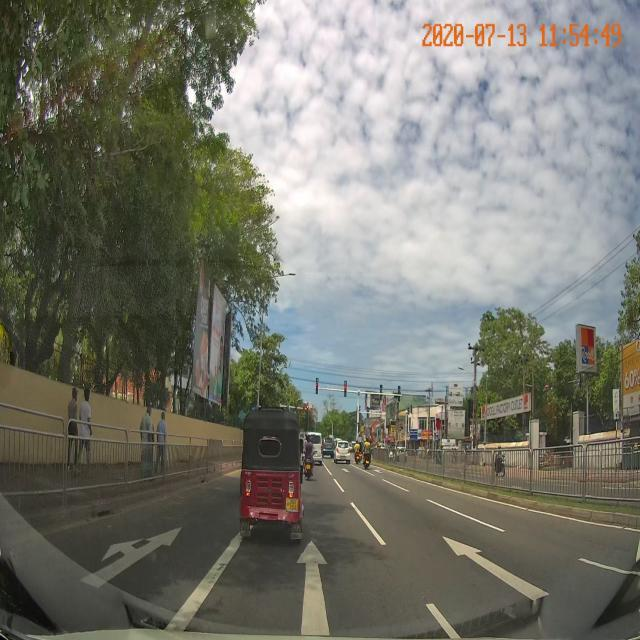forward: (375, 521, 634, 639), (168, 536, 462, 639)
